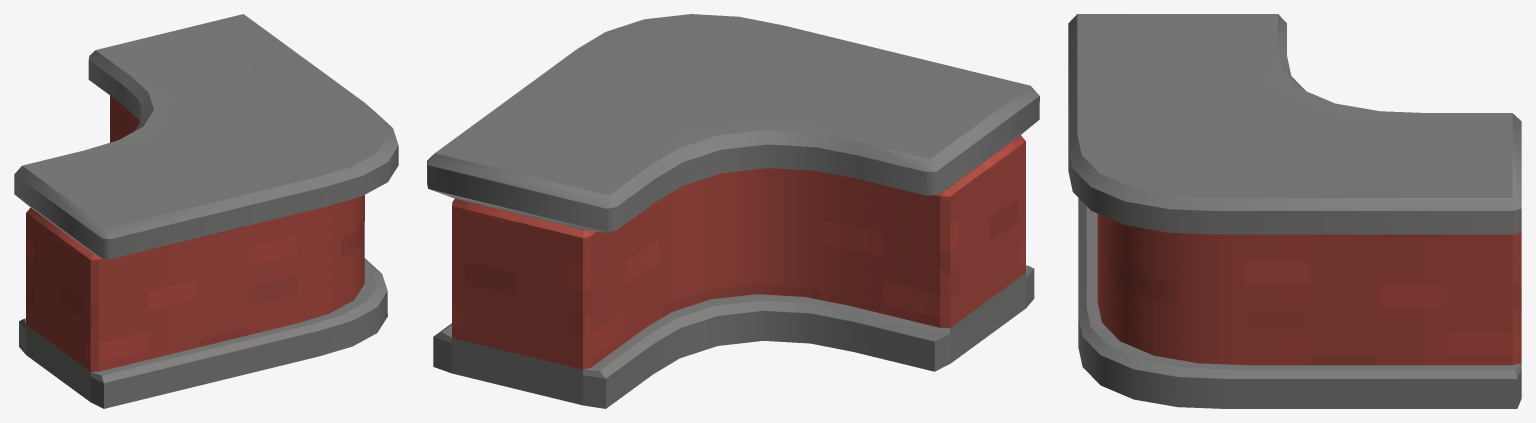
The model's file is BrickWall_2_1.glb.
3 renders of one model, left to right at view 1: azimuth 30°, elevation 25°; view 2: azimuth 150°, elevation 25°; view 3: azimuth 270°, elevation 25°, orthographic. The views are drawn at different scales.
Parts seen in each view (by area): view 1: BrickWall_2_1; view 2: BrickWall_2_1; view 3: BrickWall_2_1.
Part boxes in pixels (x1=…): BrickWall_2_1: x1=14, y1=14, x2=398, y2=408; BrickWall_2_1: x1=427, y1=14, x2=1039, y2=408; BrickWall_2_1: x1=1068, y1=14, x2=1521, y2=408.
Size of the model in its own units: 1.32 by 0.6783 by 1.32.
3 materials, 3 textured.
